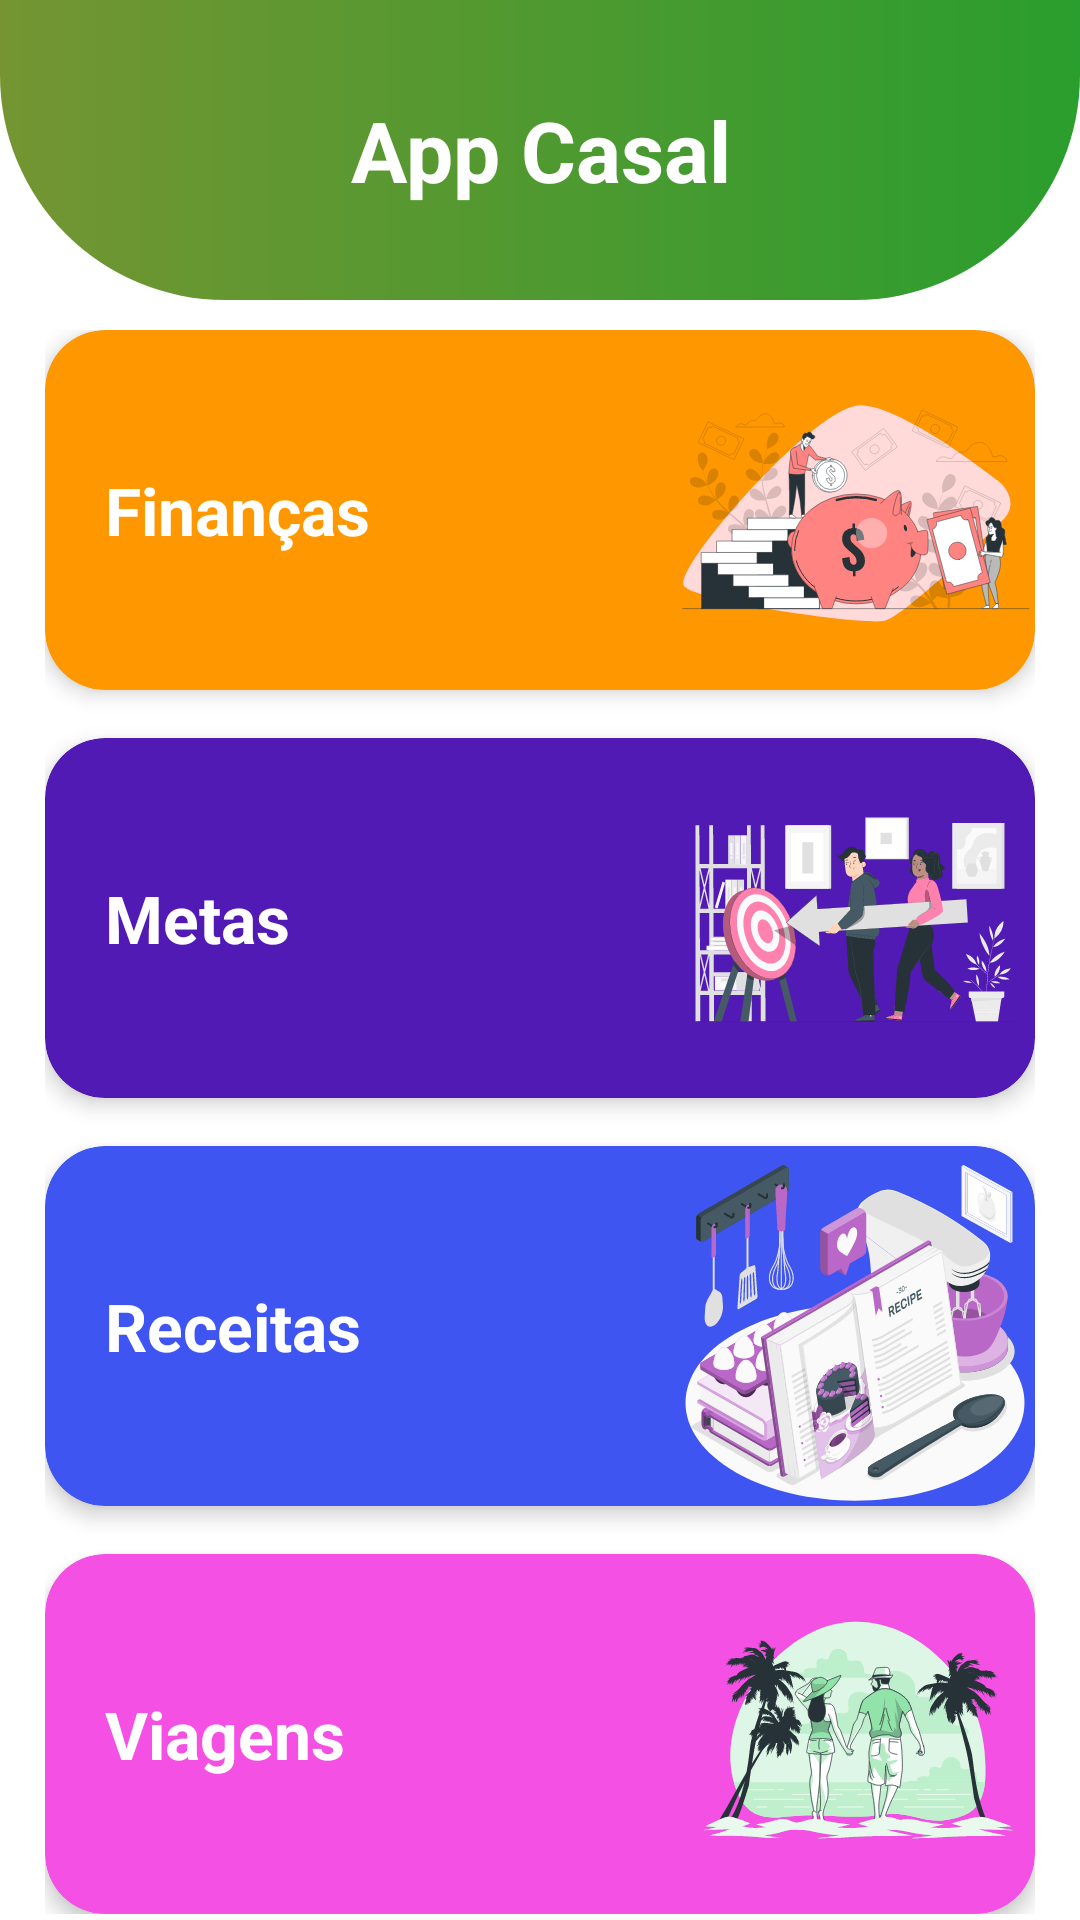

Icon bounding boxes for this 1080*1920 phone screenshot, format bbox=[x1, y1, x2, y2]:
financas: bbox=[675, 330, 1035, 690]
viagem: bbox=[675, 1554, 1035, 1914]
